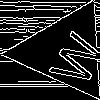W: (39, 26, 100, 89)
